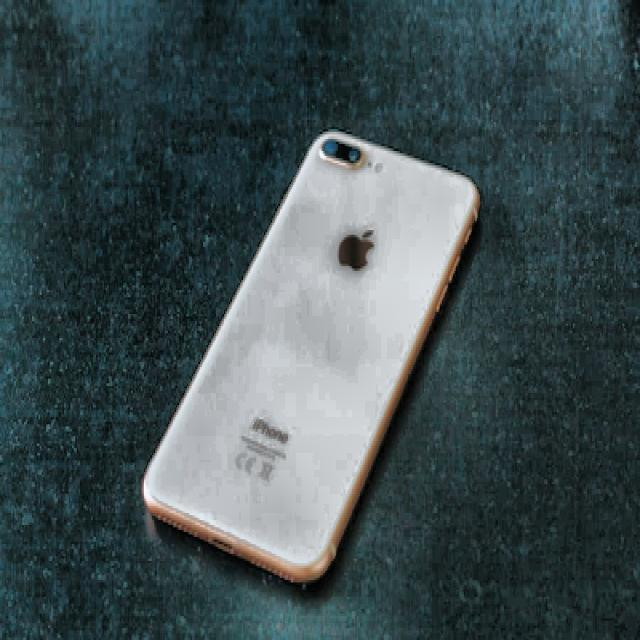Phone: (141, 126, 481, 586)
